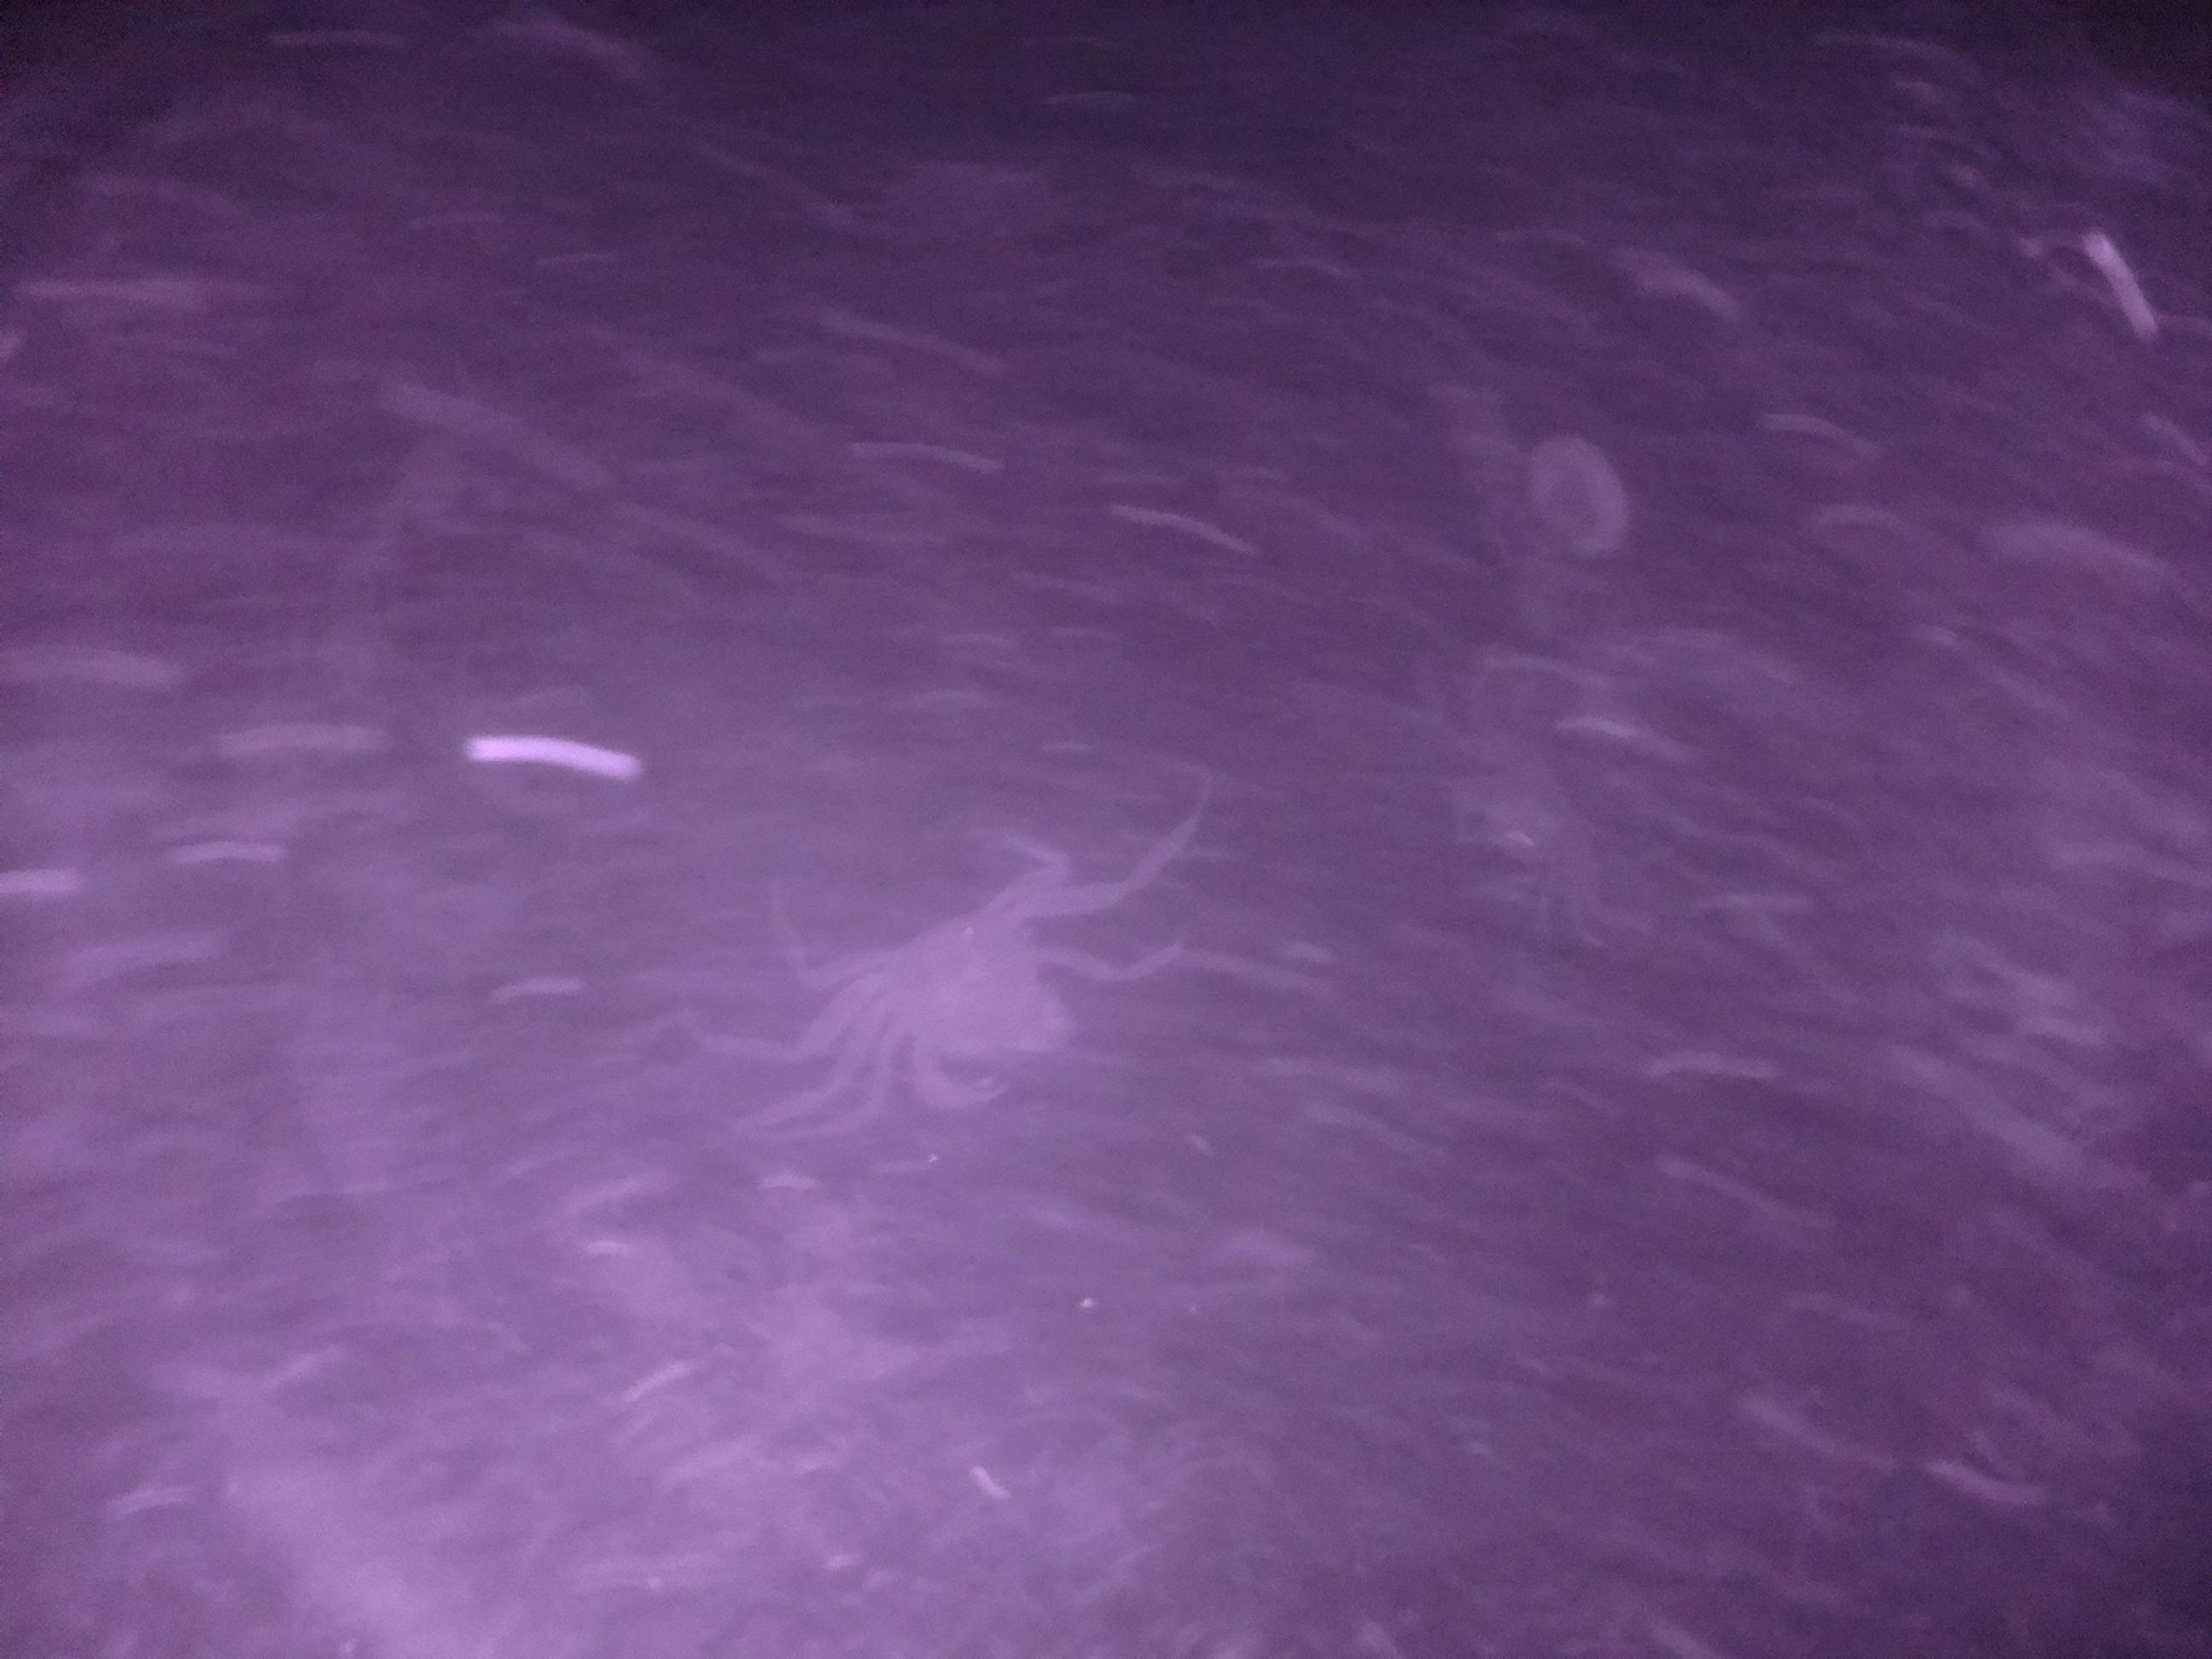Crab: (829, 880, 1104, 1112)
